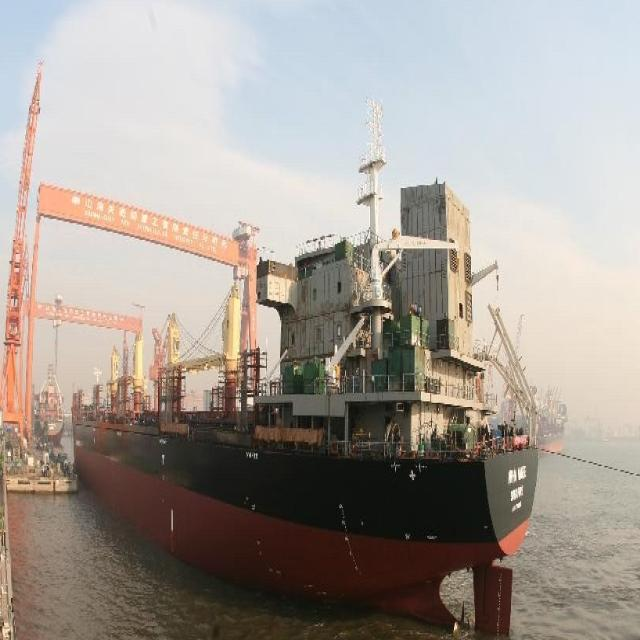cargoship: (70, 184, 554, 612)
